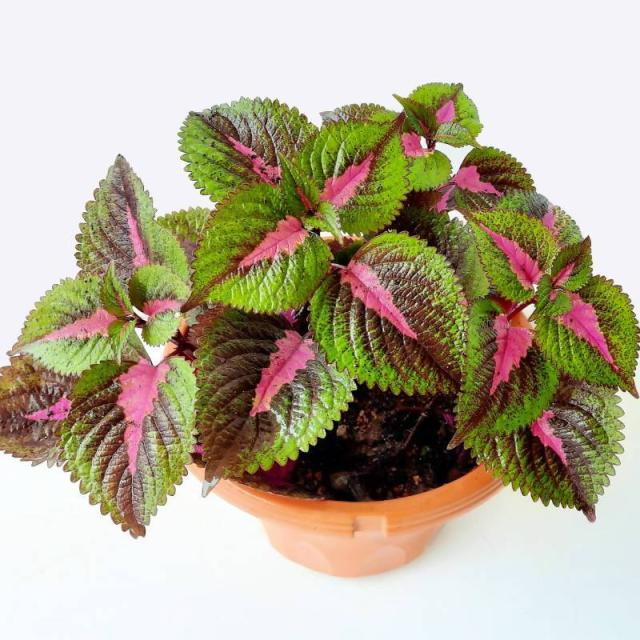Coleus: (21, 67, 639, 538)
